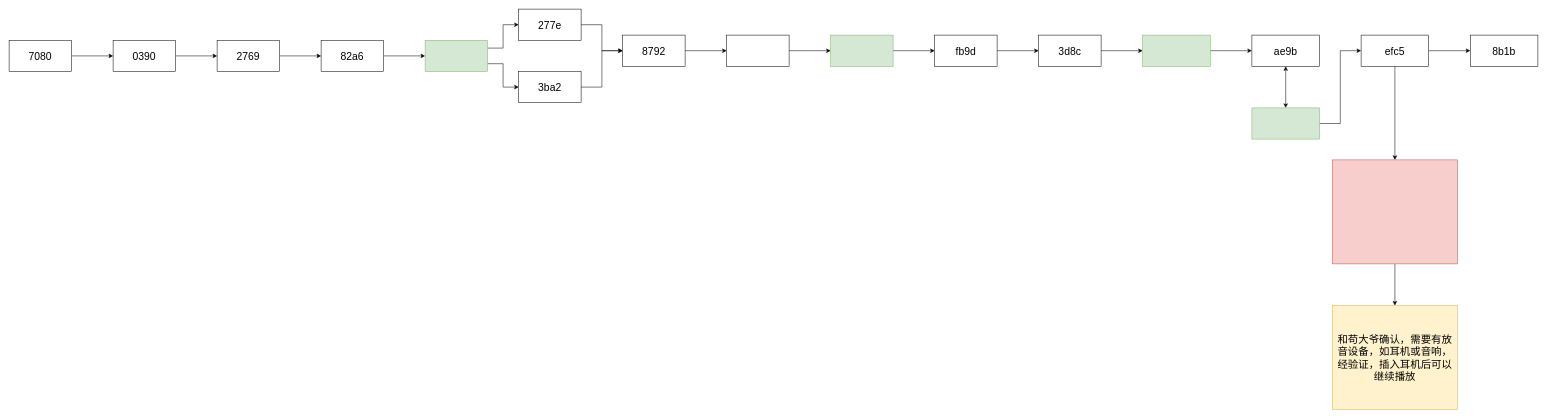
Image size: 1547x419. Some labels were removed from this diagram. The shapes that lost their labels are listed below. From the top down, each one's centre as x and y in pixels, then its label:
At (456,56): "做题投屏 1f4a".
At (757,50): "826a".
At (861,50): "课中红包 ee09".
At (1176,50): "倒计时-非全屏 73b4".
At (1285,123): "点名问答 b1d5".
At (1394,211): "播放到这里 多次卡住 日志没有报错".
